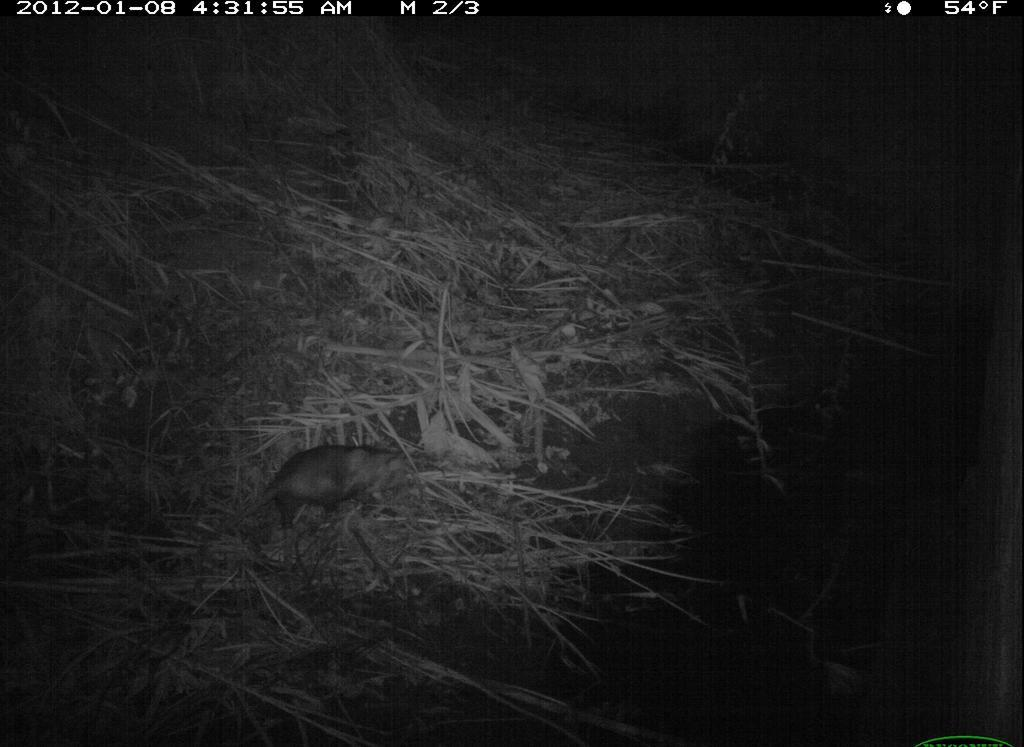opossum: (219, 440, 424, 548)
